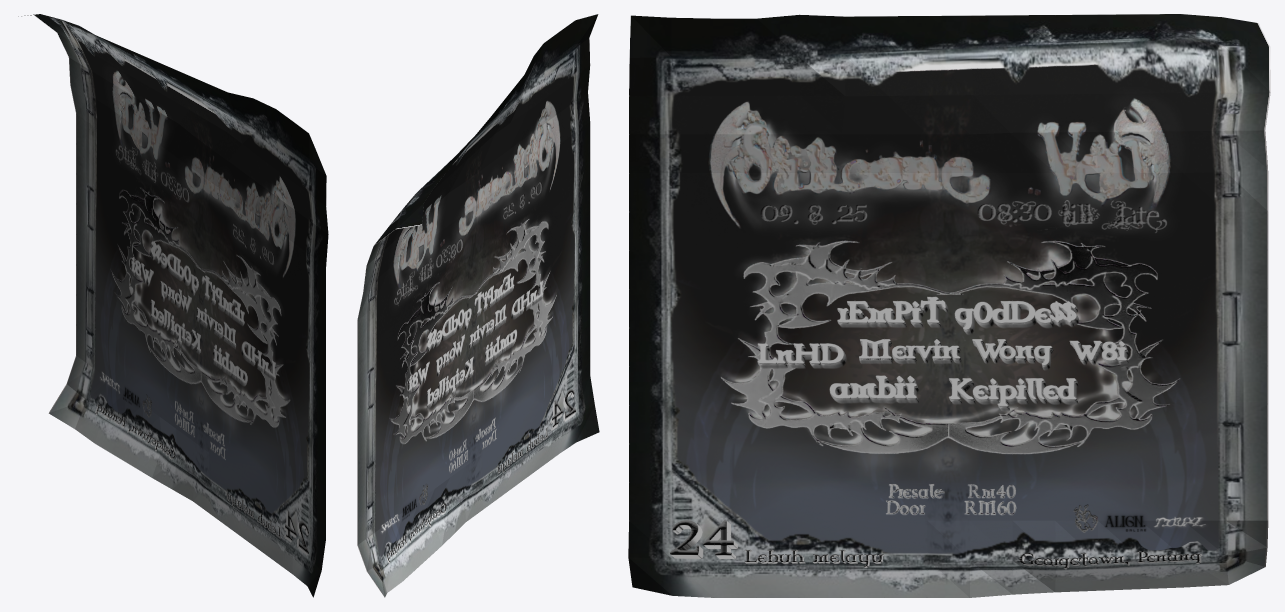
The model's file is silicone veil.glb.
3 renders of one model, left to right at view 1: azimuth 30°, elevation 25°; view 2: azimuth 150°, elevation 25°; view 3: azimuth 270°, elevation 25°, orthographic. The views are drawn at different scales.
Parts seen in each view (by area): view 1: pPlane1_Poster_01_Mat 2; view 2: pPlane1_Poster_01_Mat 2; view 3: pPlane1_Poster_01_Mat 2.
Boxes of the visible parts, bbox=[...] form: pPlane1_Poster_01_Mat 2: bbox=[18, 14, 328, 597]; pPlane1_Poster_01_Mat 2: bbox=[357, 14, 599, 597]; pPlane1_Poster_01_Mat 2: bbox=[628, 14, 1270, 597].
Bounding box in the file's own units: 7.83 × 49.1 × 49.29.
1 material, 1 textured.
